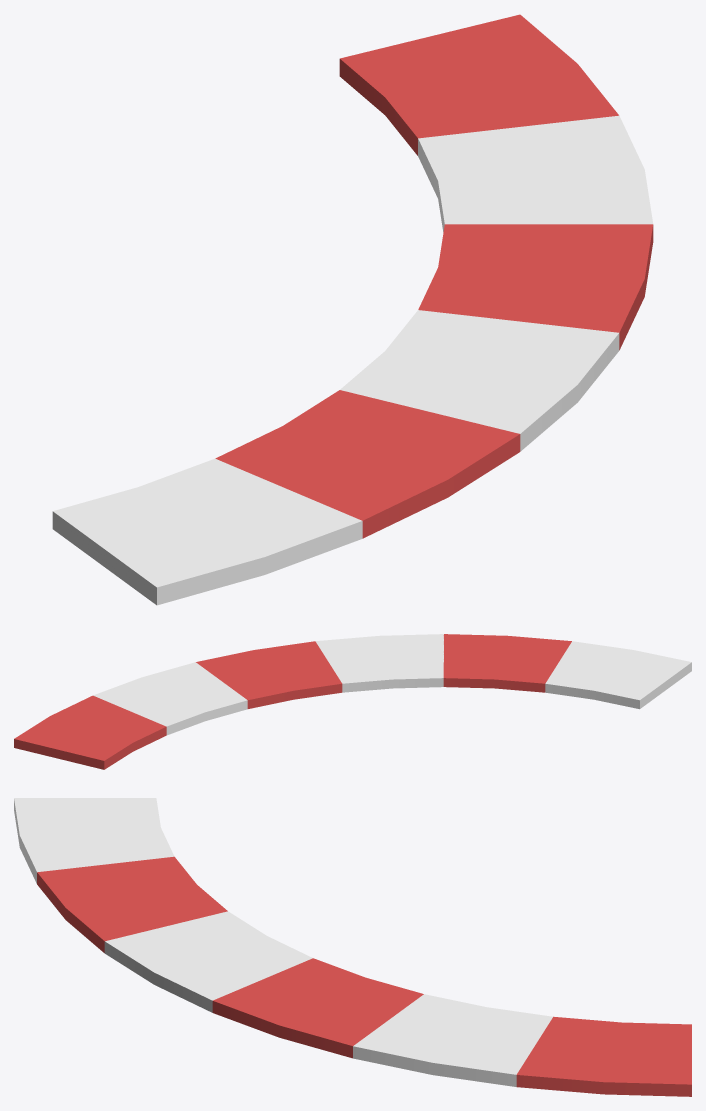
Rendered from road-corner-large-border-inner.glb.
The picture shows the model from 3 angles, top to bottom: view 1: azimuth 30°, elevation 25°; view 2: azimuth 150°, elevation 25°; view 3: azimuth 270°, elevation 25°; orthographic projection. The views are drawn at different scales.
Parts seen in each view (by area): view 1: roadCornerLargeBorderInner; view 2: roadCornerLargeBorderInner; view 3: roadCornerLargeBorderInner.
Boxes of the visible parts, <box> form: roadCornerLargeBorderInner: <box>52,14,653,605</box>; roadCornerLargeBorderInner: <box>14,634,691,769</box>; roadCornerLargeBorderInner: <box>14,798,691,1096</box>.
Bounding box in the file's own units: 1 × 0.02 × 1.
